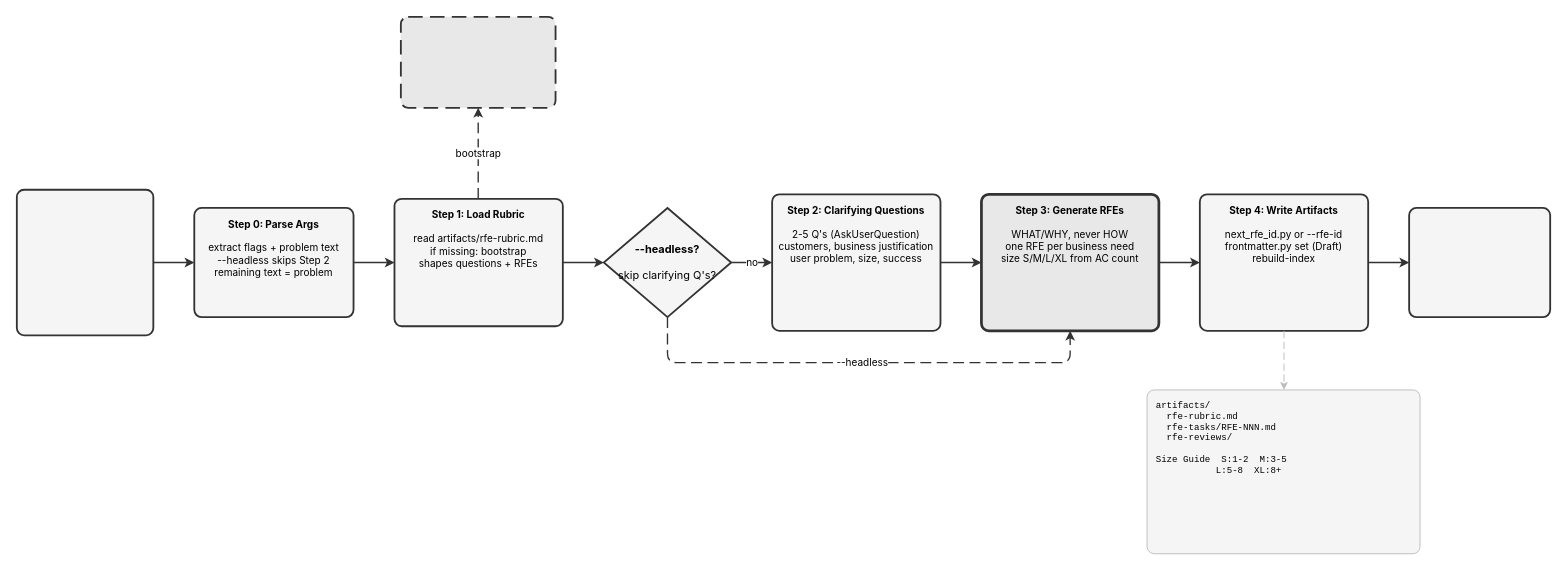
The diagram is 1566 pixels wide and 570 high, and some of its shapes have lost their labels. The centre of each missing label's shape, as x and y in pixels:
"/rfe.create problem statement --headless --priority, --labels --rfe-id" belongs at (84,262).
"artifacts/rfe-tasks/RFE-NNN.md Draft + frontmatter edit or /rfe.review" belongs at (1479,262).
"assess-rfe plugin bootstrap-assess-rfe.sh /export-rubric" belongs at (477,61).
